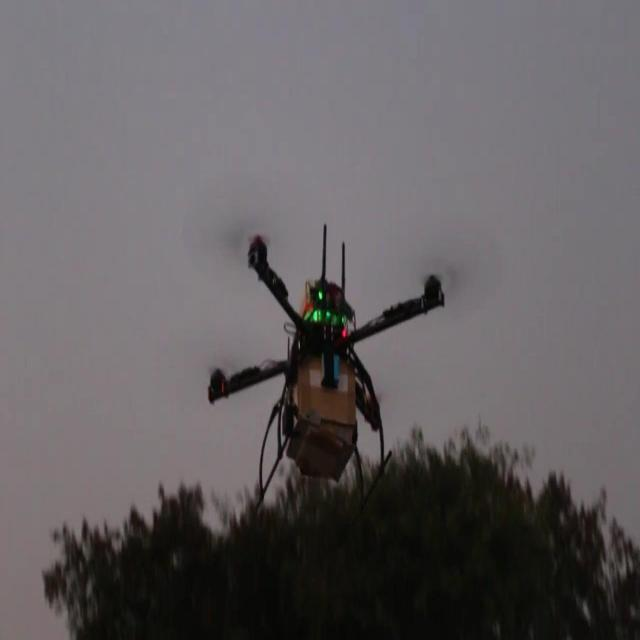drone: (206, 220, 446, 508)
